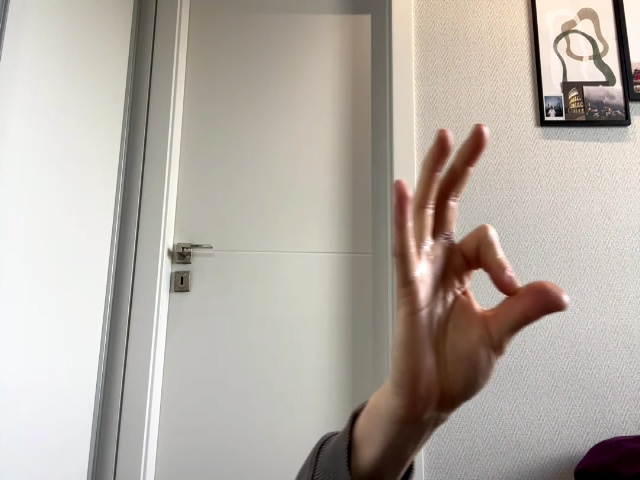S: (393, 123, 570, 414)
